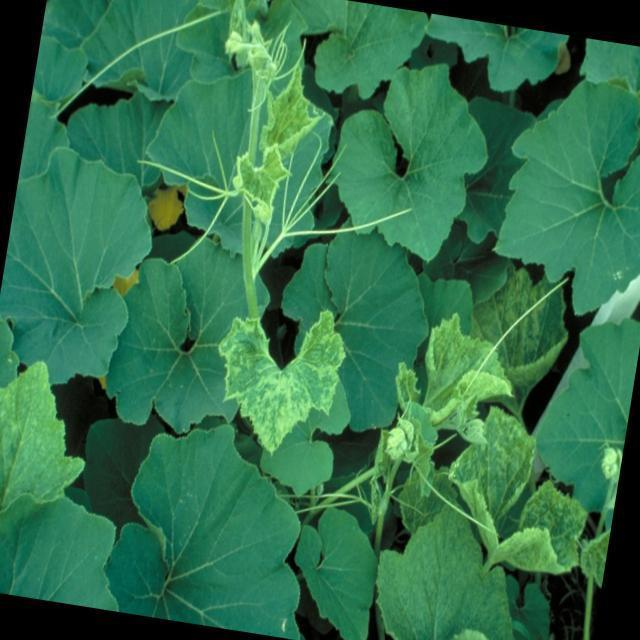Mosaic Virus: (448, 413, 603, 571), (210, 308, 350, 444), (0, 369, 84, 512), (416, 316, 507, 411), (480, 264, 562, 364)
